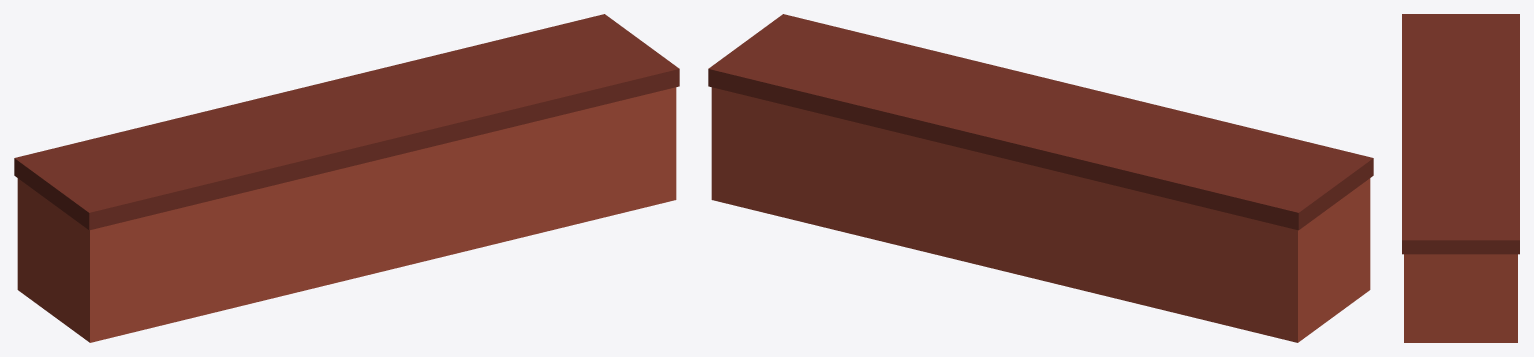
Rendered from wall_row4.glb.
3 renders of one model, left to right at view 1: azimuth 30°, elevation 25°; view 2: azimuth 150°, elevation 25°; view 3: azimuth 270°, elevation 25°, orthographic. The views are drawn at different scales.
Visible parts, largest first — view 1: wall_row4; view 2: wall_row4; view 3: wall_row4.
Boxes of the visible parts, <box> form: wall_row4: <box>14,14,679,342</box>; wall_row4: <box>708,14,1373,342</box>; wall_row4: <box>1402,14,1519,342</box>.
Bounding box in the file's own units: 0.705 × 0.15 × 0.155.
Materials: 1 (1 with a texture image).
